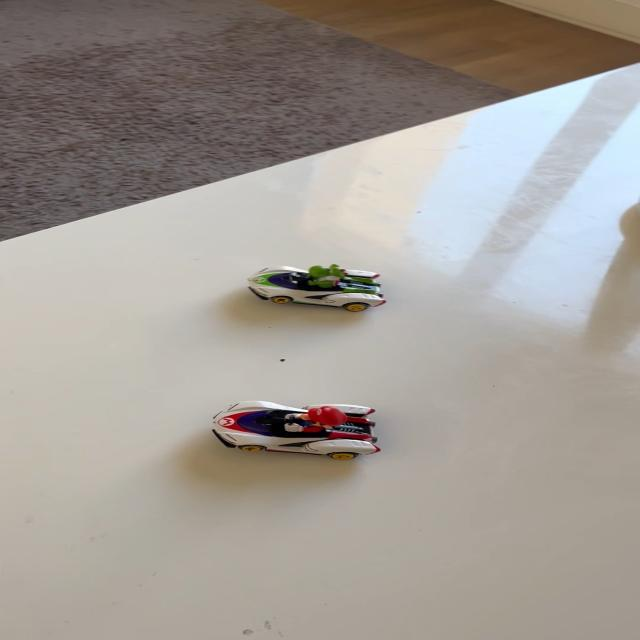mario: (208, 397, 389, 463)
yoshi: (236, 258, 399, 314)
